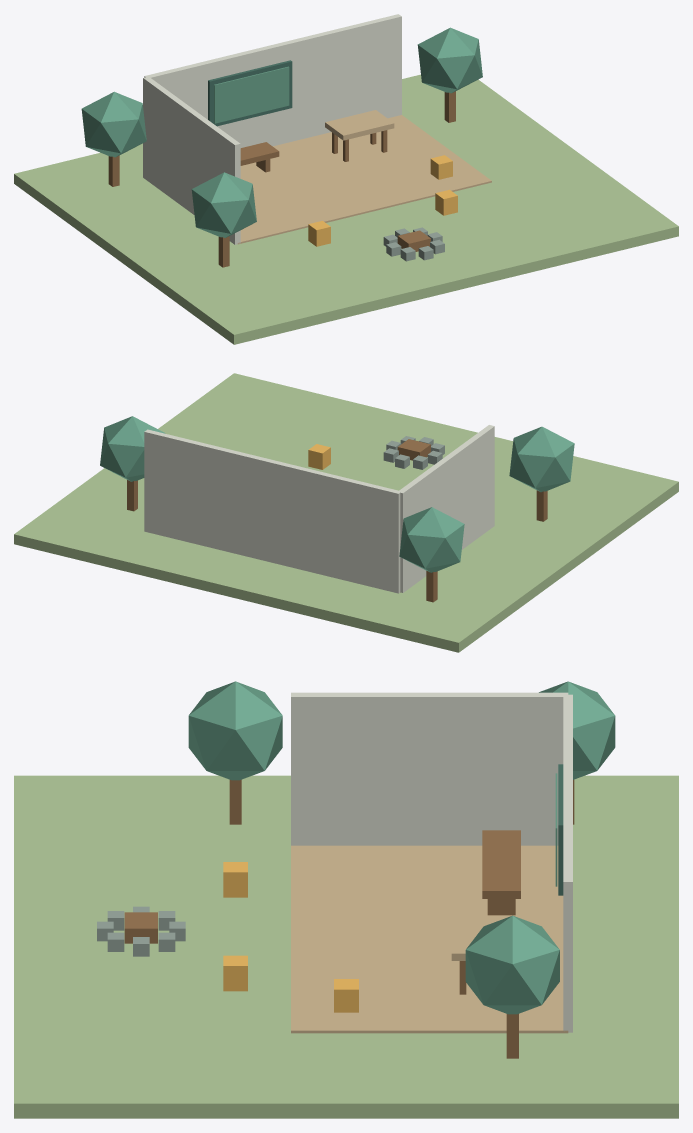
The model's file is room.glb.
3 renders of one model, top to bottom at view 1: azimuth 30°, elevation 25°; view 2: azimuth 150°, elevation 25°; view 3: azimuth 270°, elevation 25°, orthographic. The views are drawn at different scales.
Visible parts, largest first — view 1: Ground, BackWall, Floor, LeftWall, TreeCrown.001, TreeCrown, TreeCrown.002, WindowGlass, Table, WindowFrame, Bench, Wood_1 (+1 smaller); view 2: Ground, BackWall, LeftWall, TreeCrown.001, TreeCrown.002, TreeCrown, Wood_1, Campfire; view 3: Ground, LeftWall, Floor, TreeCrown.001, TreeCrown, TreeCrown.002, BackWall, Bench, Table, Campfire, Wood_1, Wood_0 (+2 smaller).
Part boxes in pixels (bbox=[...]): Ground: bbox=[14, 74, 678, 344]; BackWall: bbox=[144, 14, 401, 147]; Floor: bbox=[237, 115, 491, 244]; LeftWall: bbox=[143, 77, 240, 244]; TreeCrown.001: bbox=[191, 172, 256, 237]; TreeCrown: bbox=[417, 27, 482, 93]; TreeCrown.002: bbox=[81, 91, 146, 157]; WindowGlass: bbox=[214, 66, 289, 123]; Table: bbox=[325, 110, 394, 140]; WindowFrame: bbox=[208, 60, 292, 126]; Bench: bbox=[240, 142, 279, 165]; Wood_1: bbox=[435, 189, 457, 215]; Ground: bbox=[14, 373, 678, 652]; BackWall: bbox=[144, 429, 401, 593]; LeftWall: bbox=[399, 425, 494, 592]; TreeCrown.001: bbox=[509, 426, 574, 492]; TreeCrown.002: bbox=[399, 507, 464, 572]; TreeCrown: bbox=[100, 416, 165, 481]; Wood_1: bbox=[308, 444, 330, 469]; Campfire: bbox=[397, 439, 430, 460]; Ground: bbox=[14, 775, 678, 1118]; LeftWall: bbox=[291, 692, 568, 845]; Floor: bbox=[291, 845, 568, 1033]; TreeCrown.001: bbox=[188, 681, 282, 780]; TreeCrown: bbox=[465, 915, 559, 1014]; TreeCrown.002: bbox=[539, 681, 615, 779]; BackWall: bbox=[563, 694, 572, 1032]; Bench: bbox=[482, 830, 520, 898]; Table: bbox=[451, 916, 507, 960]; Campfire: bbox=[124, 912, 157, 943]; Wood_1: bbox=[223, 955, 247, 991]; Wood_0: bbox=[223, 862, 247, 897].
Bounding box in the file's own units: 14 × 3.31 × 12.
